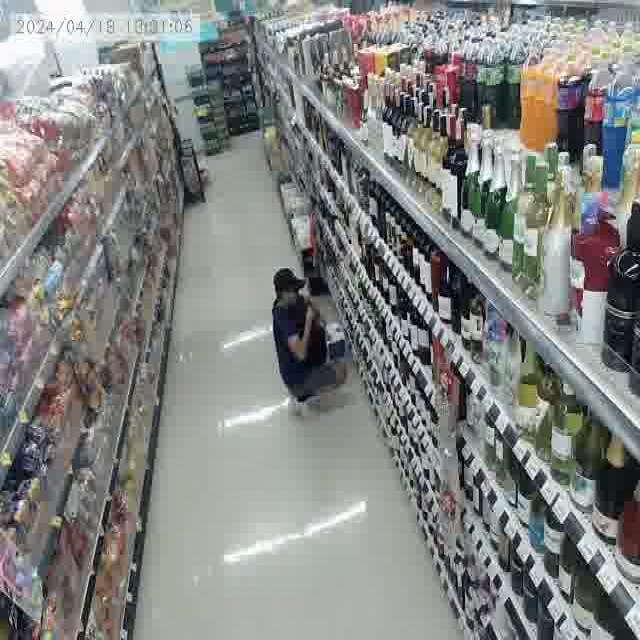shoplifting: (263, 257, 357, 430)
